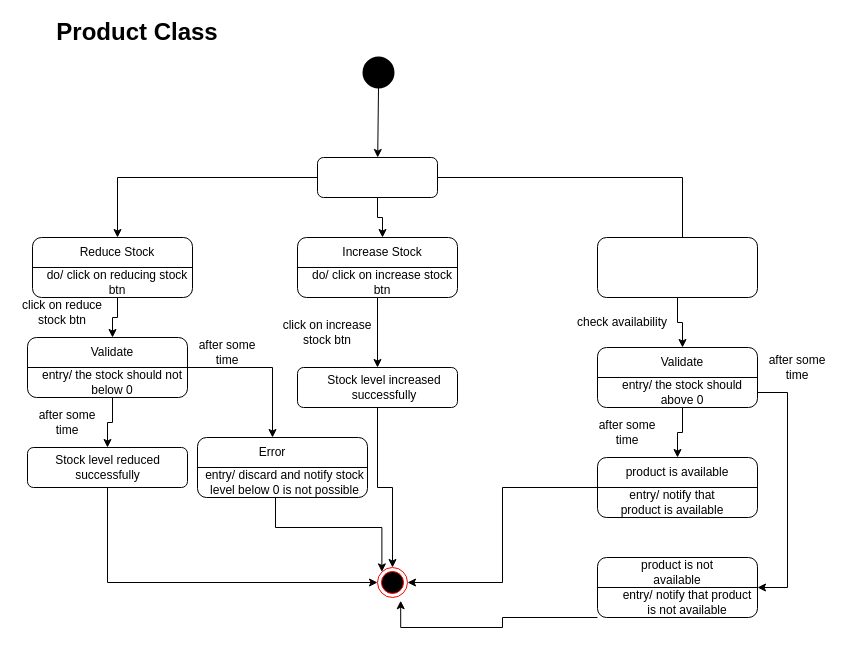
The diagram is 854 pixels wide and 653 high, and some of its shapes have lost their labels. Here are the shapes that lost their labels. From the top down, the box of each, then its label:
(316, 156, 438, 198): start
(596, 236, 758, 298): Product Availability
